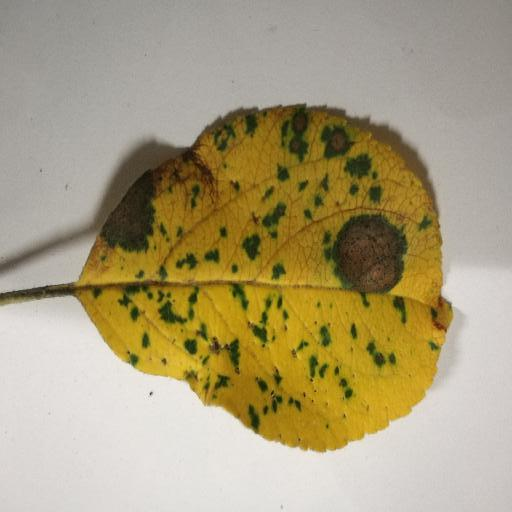Brown_Spot: (335, 224, 402, 292), (108, 171, 156, 245), (285, 114, 308, 156), (323, 124, 345, 153)
